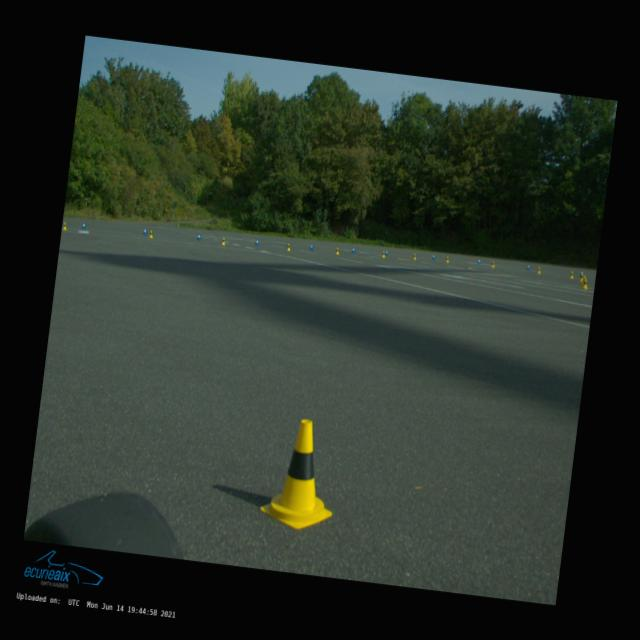blue_cone: (196, 232, 202, 240), (142, 227, 148, 234), (81, 222, 87, 228), (309, 243, 314, 250), (254, 238, 259, 245), (351, 246, 356, 252), (384, 249, 388, 255), (526, 264, 530, 269), (431, 254, 435, 259), (579, 270, 582, 276), (478, 258, 480, 264)
yellow_cone: (258, 416, 342, 532), (581, 278, 589, 289), (580, 275, 586, 284), (536, 266, 542, 274), (568, 270, 574, 278), (148, 230, 154, 238), (62, 222, 68, 230), (334, 247, 340, 254), (490, 260, 495, 268), (412, 252, 417, 260), (286, 242, 291, 250), (221, 237, 226, 244), (579, 272, 583, 280), (381, 250, 385, 257), (445, 256, 449, 262)
